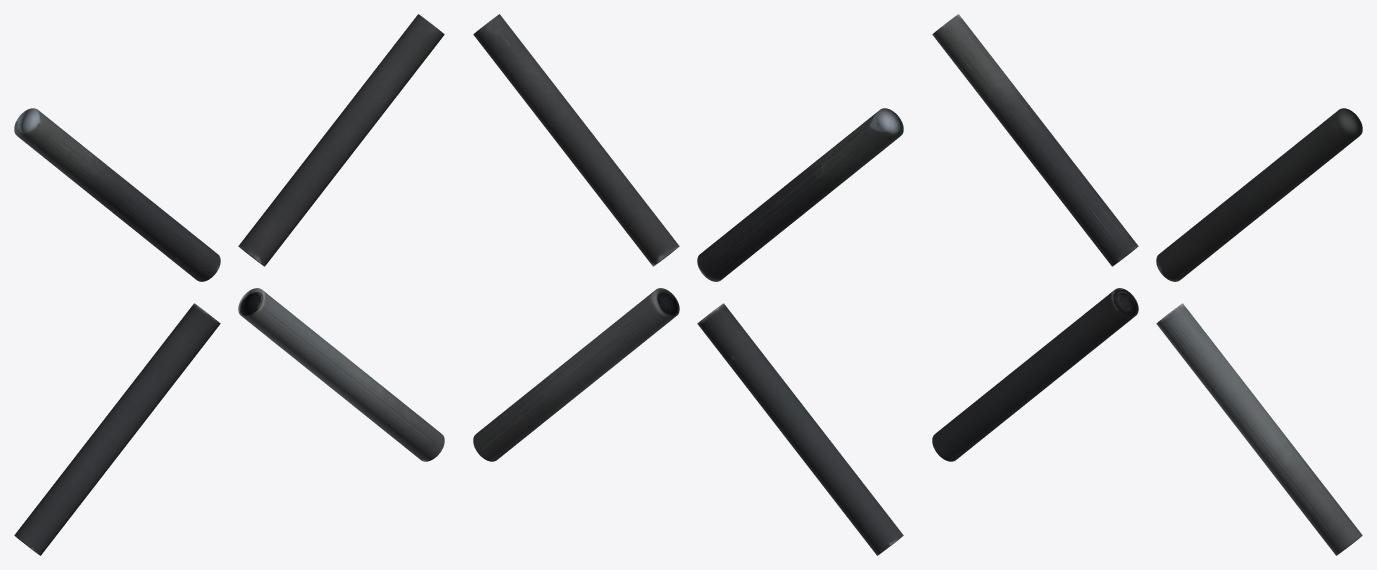
Rendered from SM_Rayons.glb.
3 views of the same model, side by side, from view 1: azimuth 30°, elevation 25°; view 2: azimuth 150°, elevation 25°; view 3: azimuth 330°, elevation 25° (orthographic).
Size of the model in its own units: 2 by 2 by 0.137.
1 material, 1 textured.
